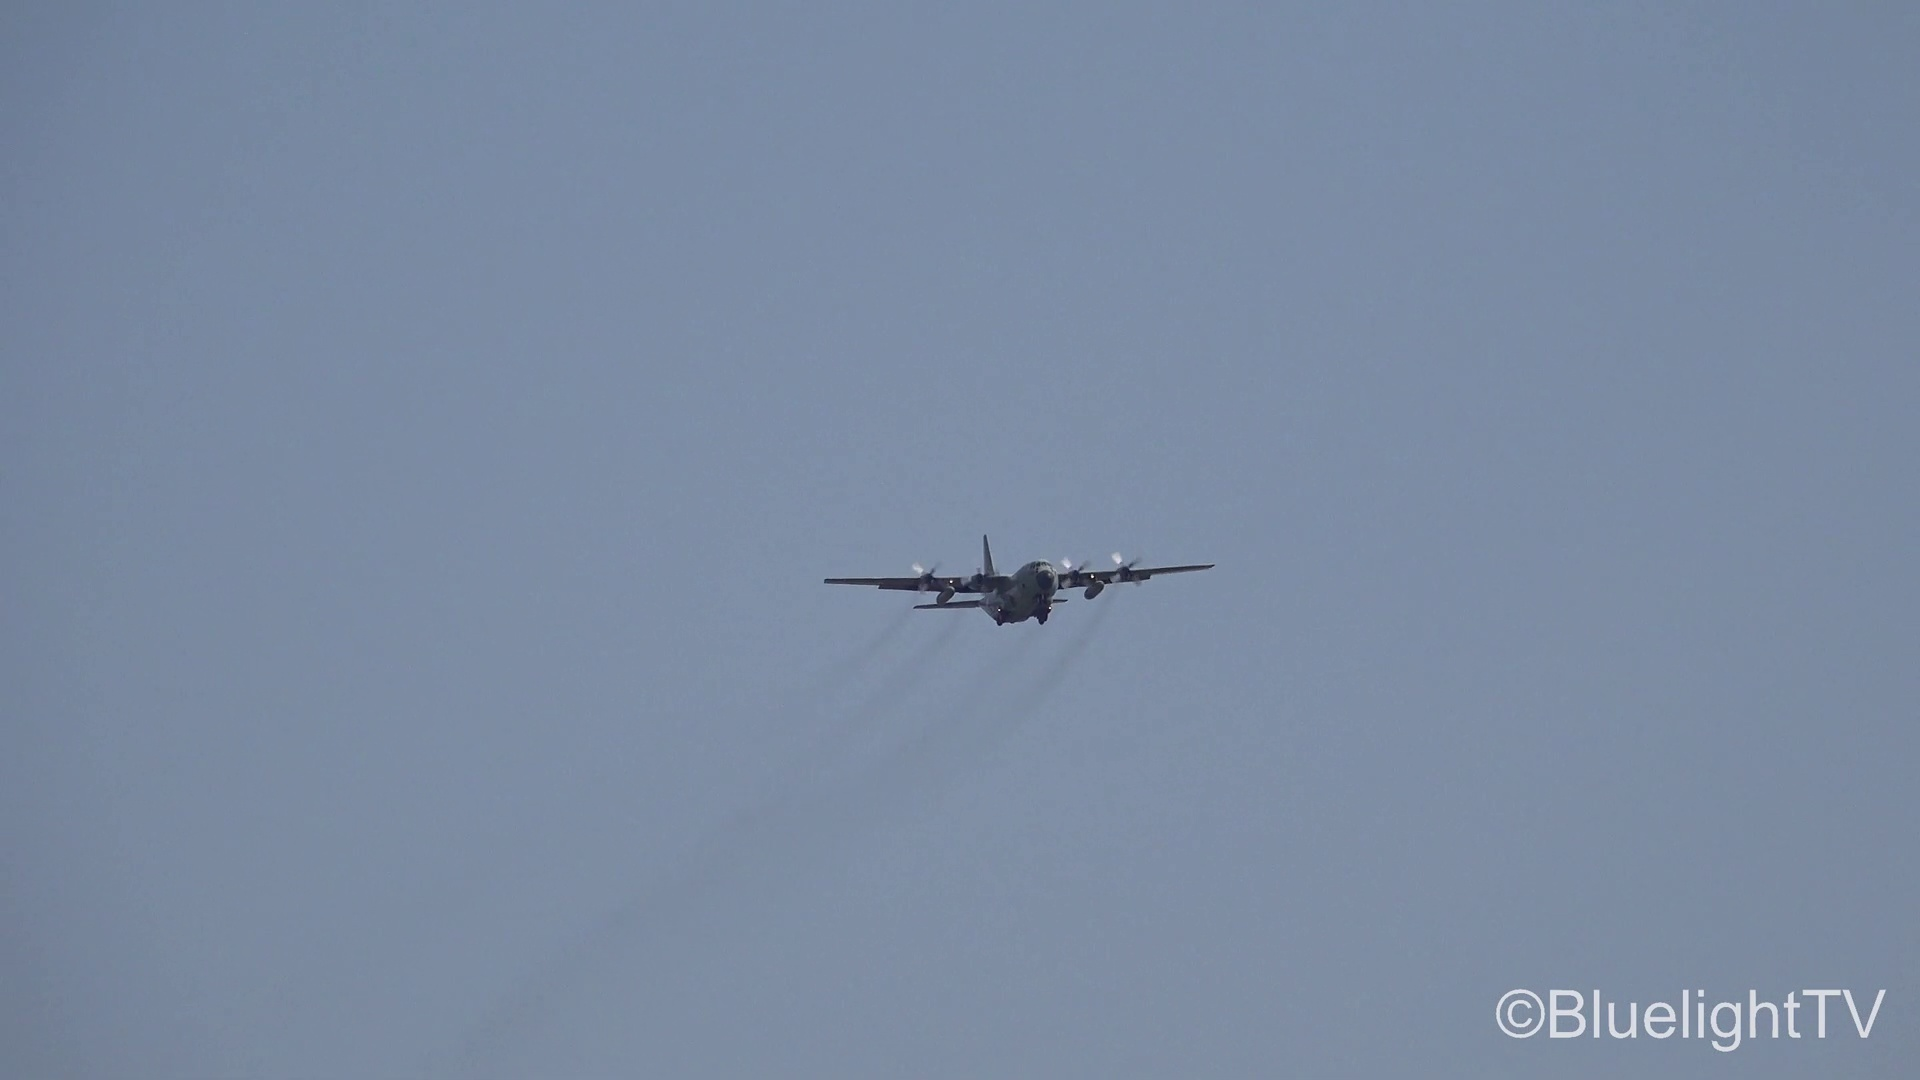Airplane: (822, 533, 1226, 636)
